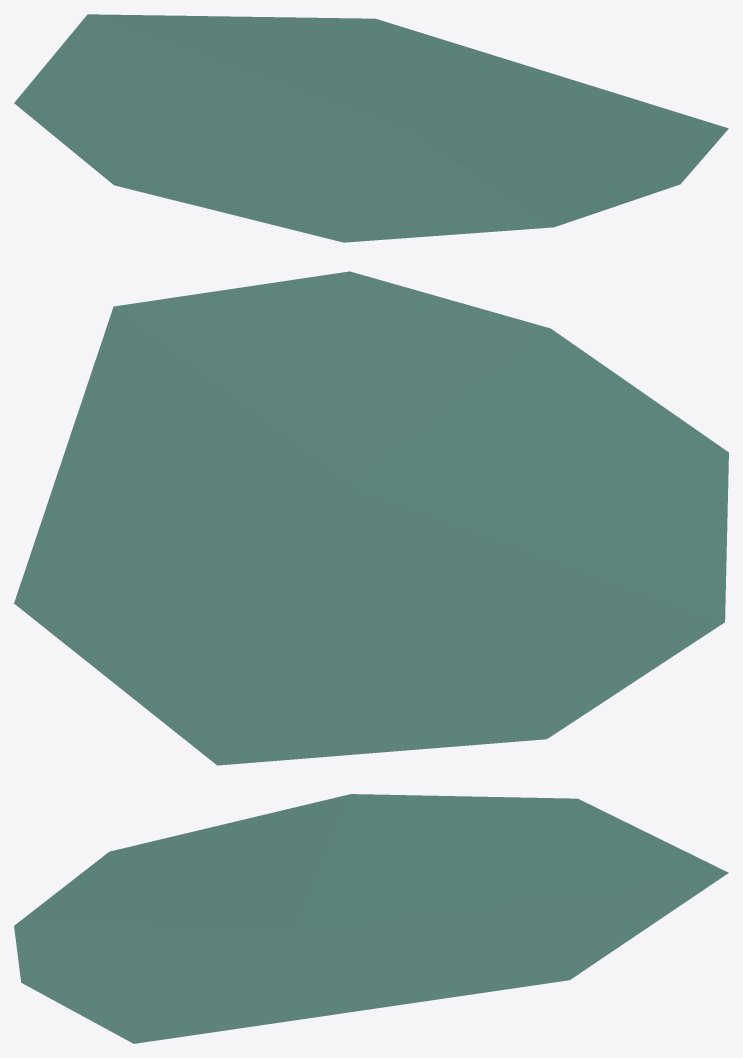
Rendered from puddle.fbx.
3 views of the same model, one above another, from view 1: azimuth 30°, elevation 25°; view 2: azimuth 150°, elevation 25°; view 3: azimuth 270°, elevation 25° (orthographic). The views are drawn at different scales.
Visible parts, largest first — view 1: Plane; view 2: Plane; view 3: Plane.
Boxes of the visible parts, x1,y1,x2,y2 form: Plane: (14,14,728,242); Plane: (14,271,728,765); Plane: (14,794,728,1043).
Bounding box in the file's own units: 195 × 6.39 × 228.
